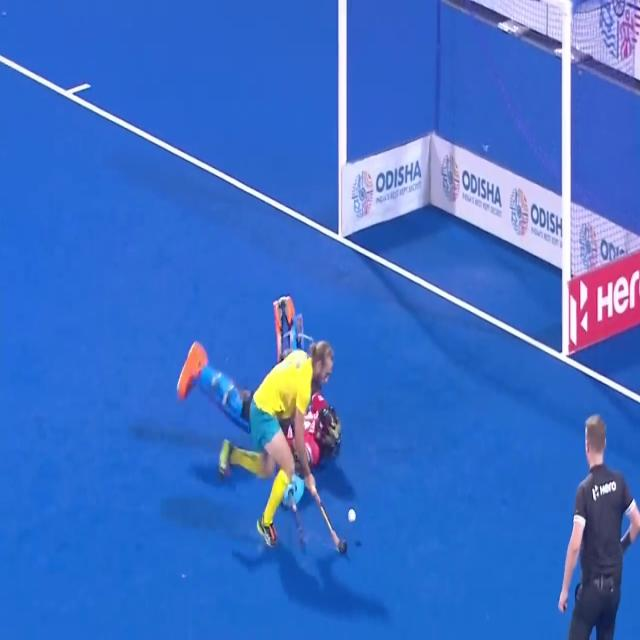ball: (339, 506, 363, 532)
